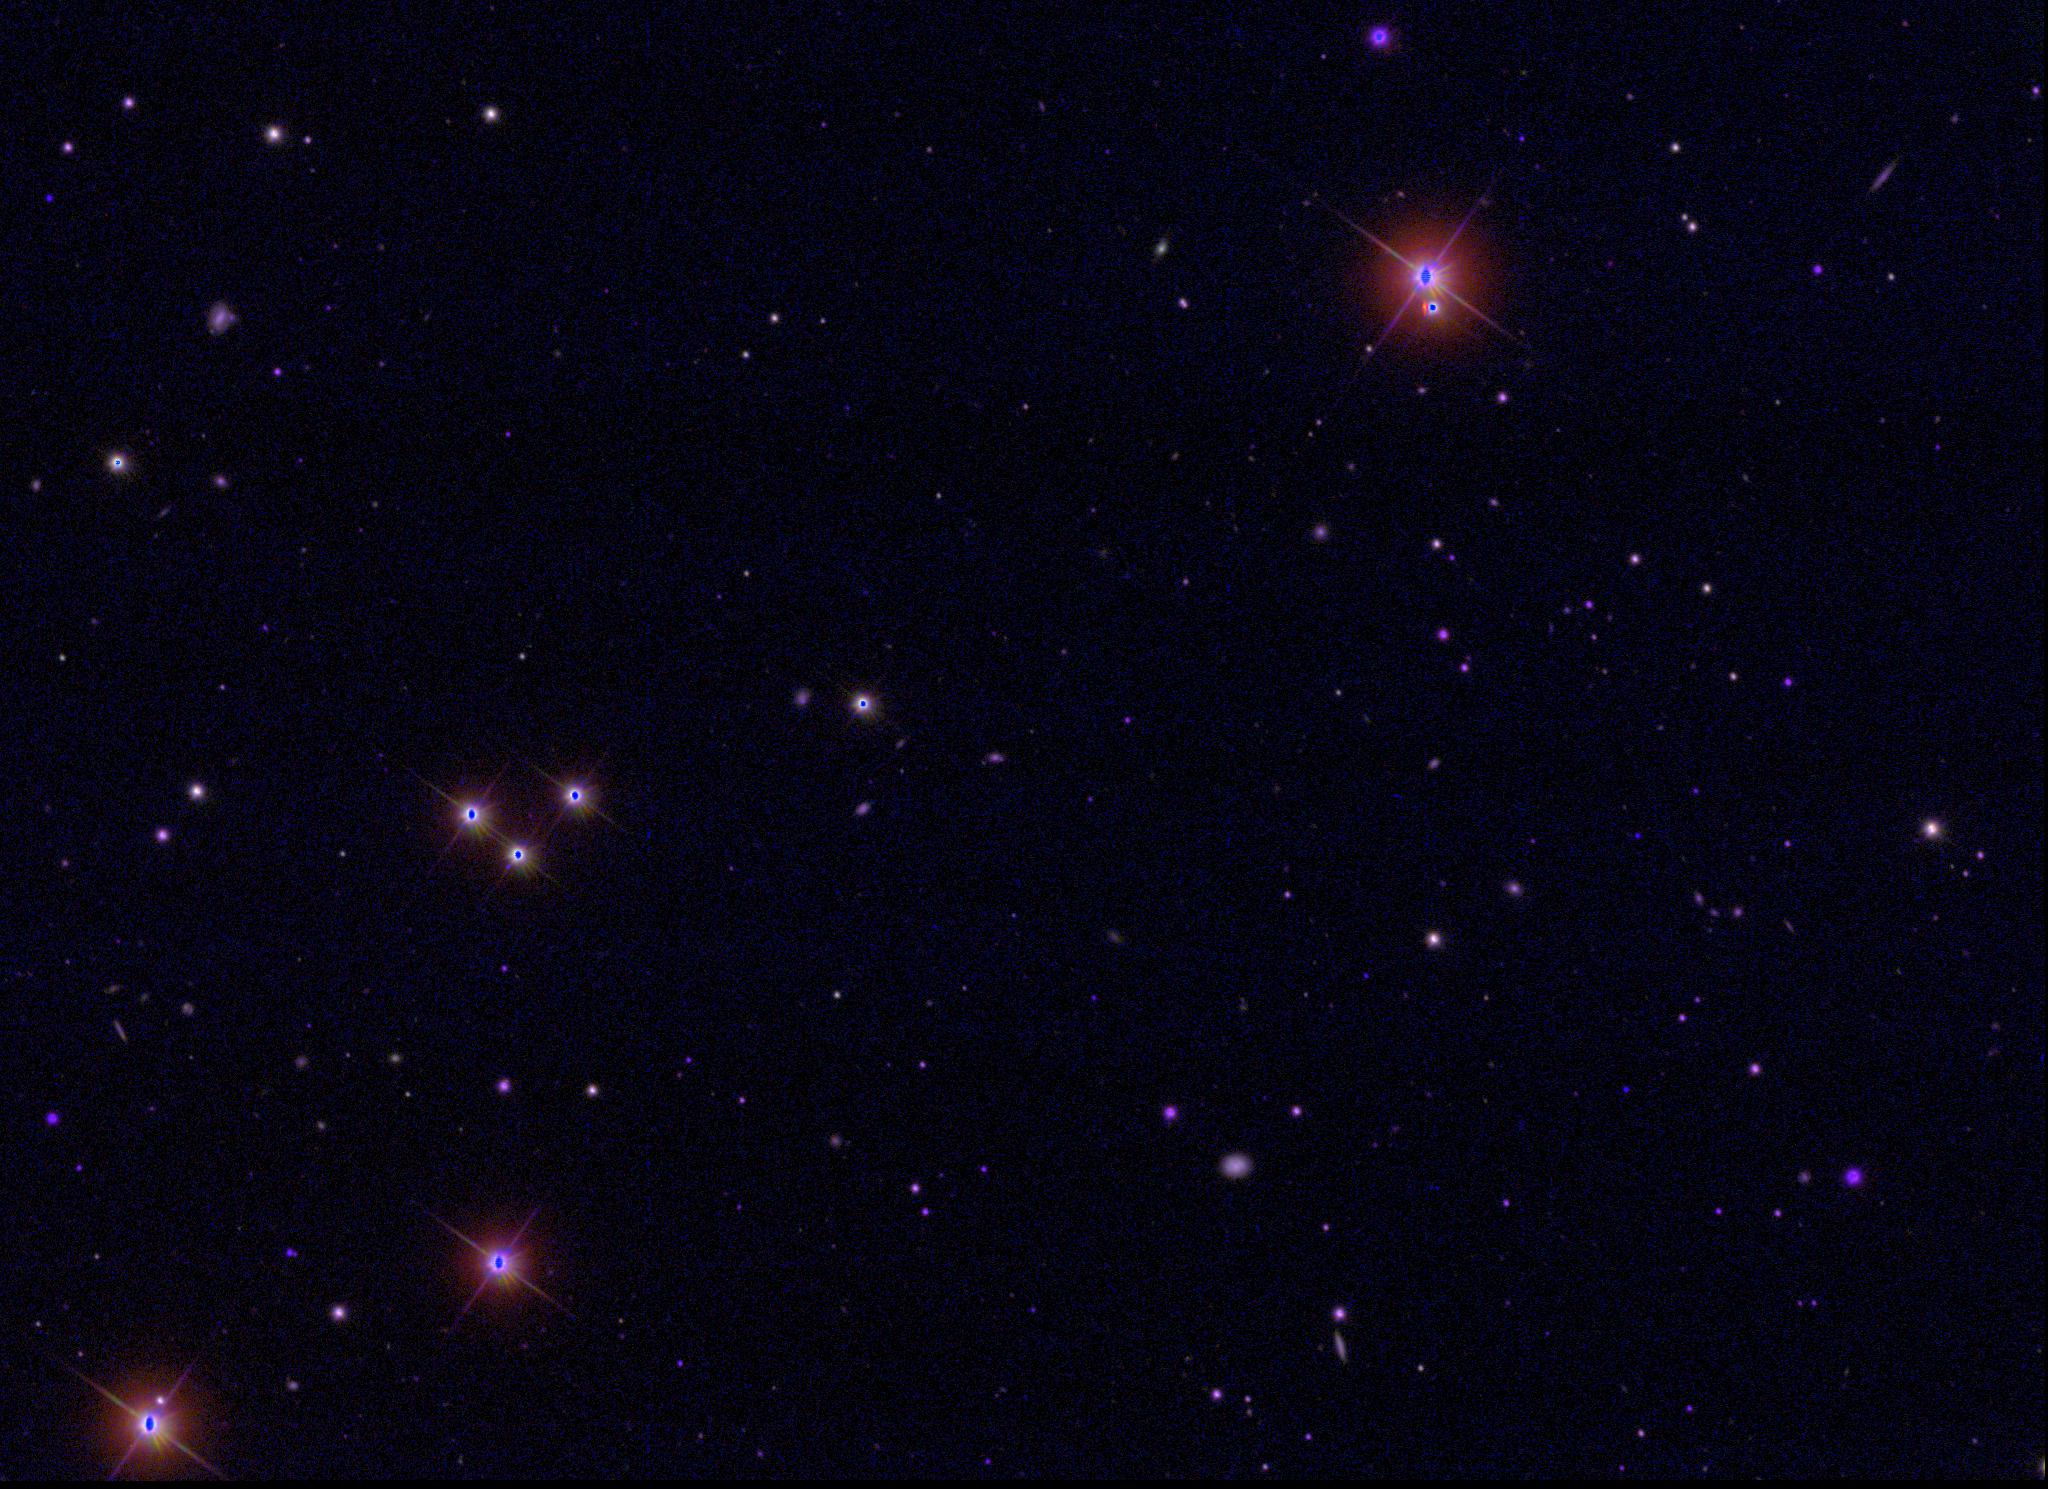L: (1619, 1082, 1631, 1096)
